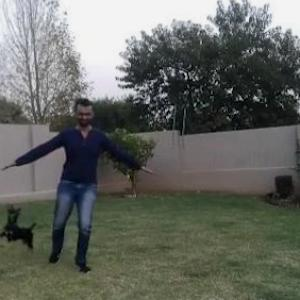land: (9, 100, 160, 267)
